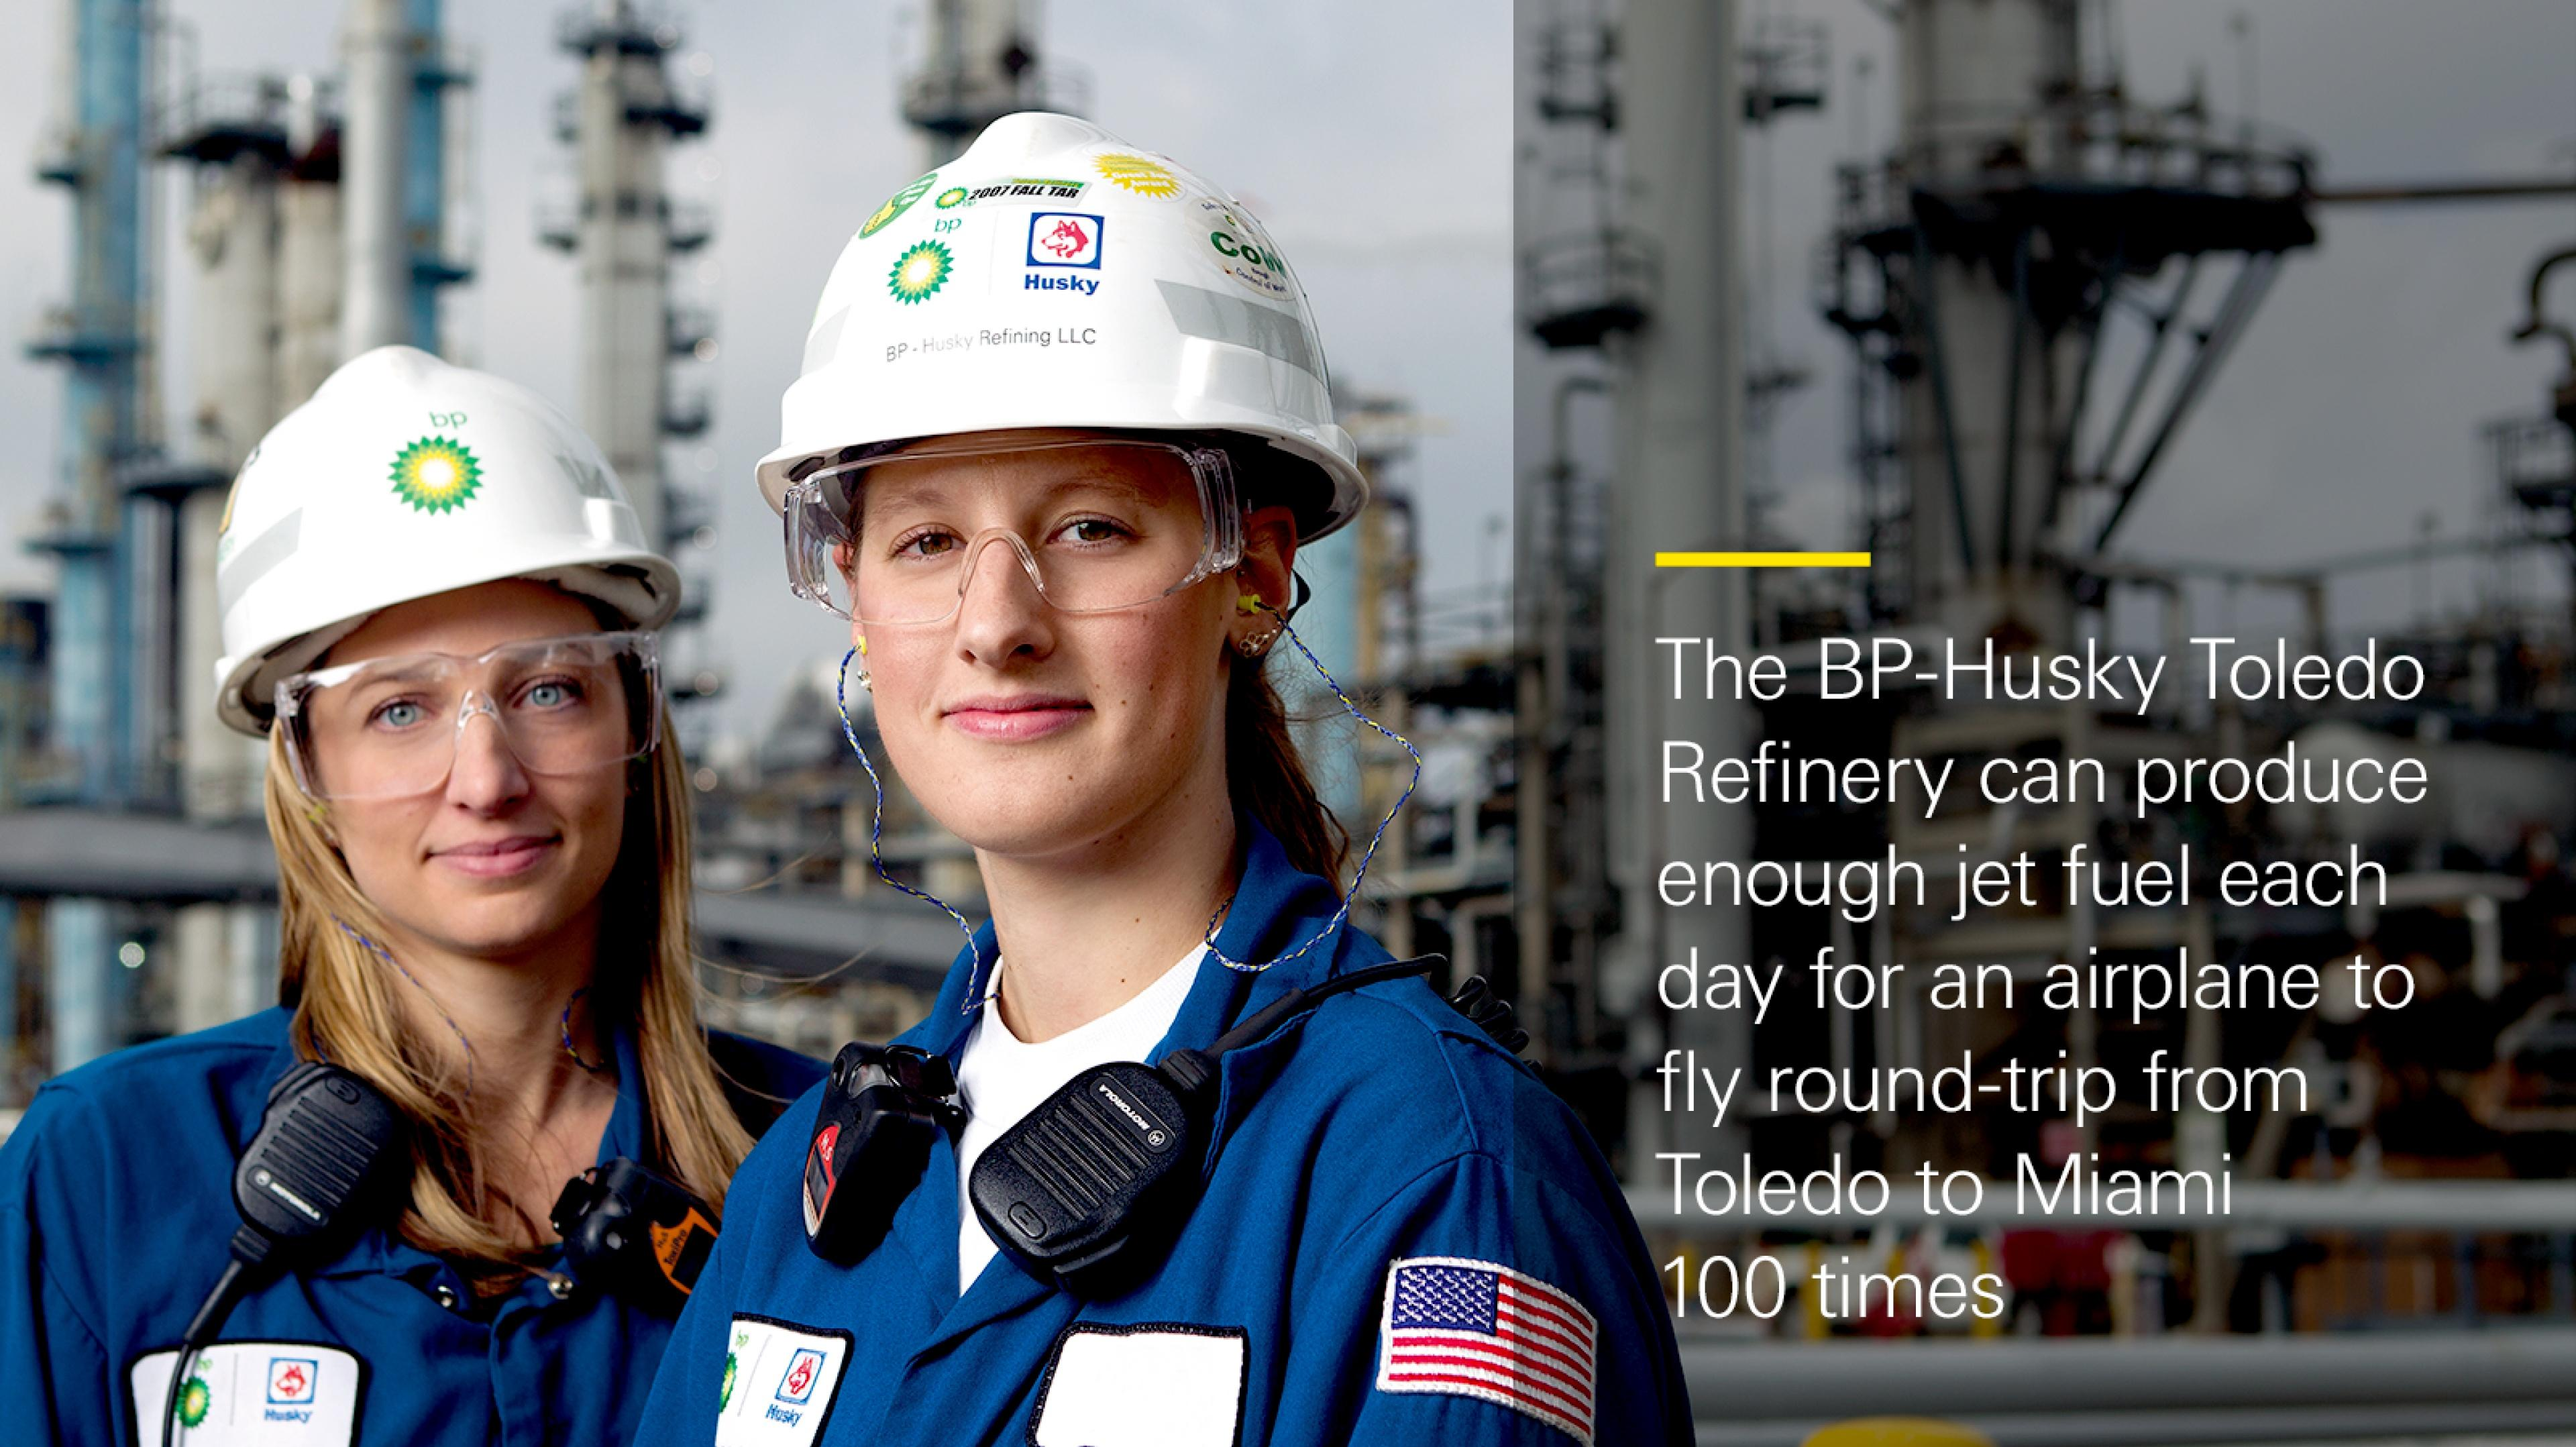helmet: (780, 108, 1369, 538), (218, 350, 679, 708)
